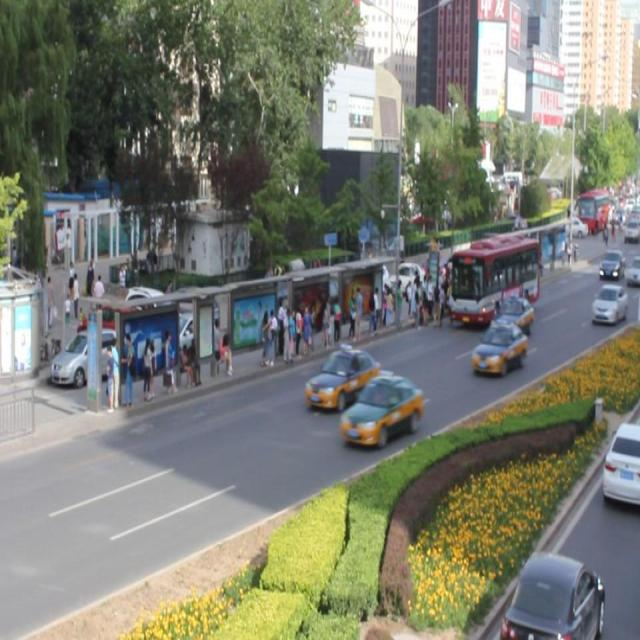car: (340, 373, 424, 447), (305, 346, 380, 410), (471, 322, 526, 377), (490, 294, 531, 333), (590, 282, 627, 324)
van: (447, 232, 538, 326)
